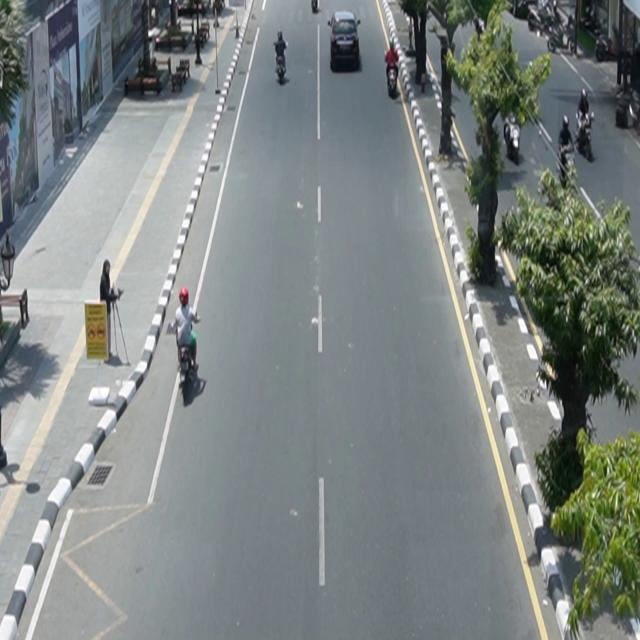car: (328, 11, 362, 72)
